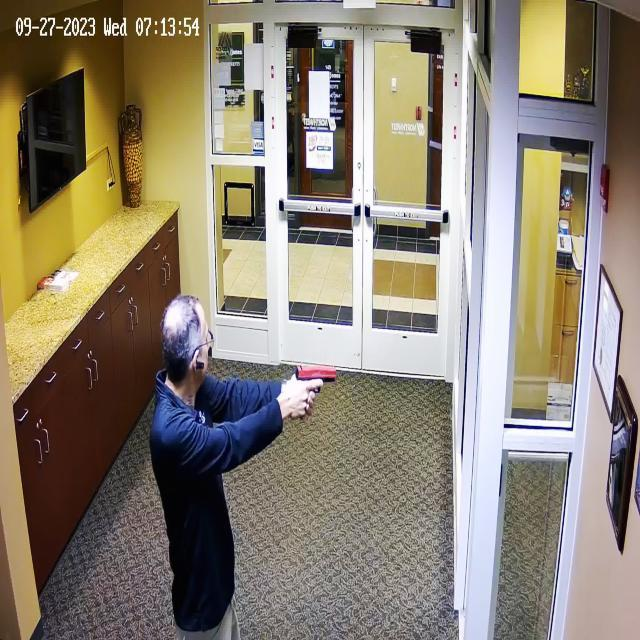Gun: (290, 359, 352, 420)
